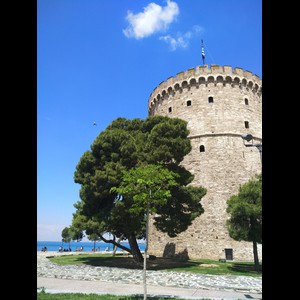White Tower: (141, 36, 262, 261)
